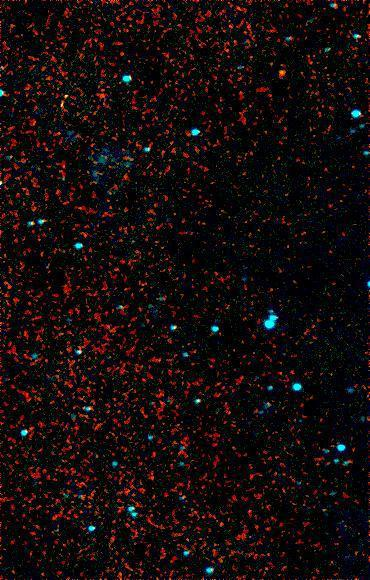star: (267, 57, 297, 87)
